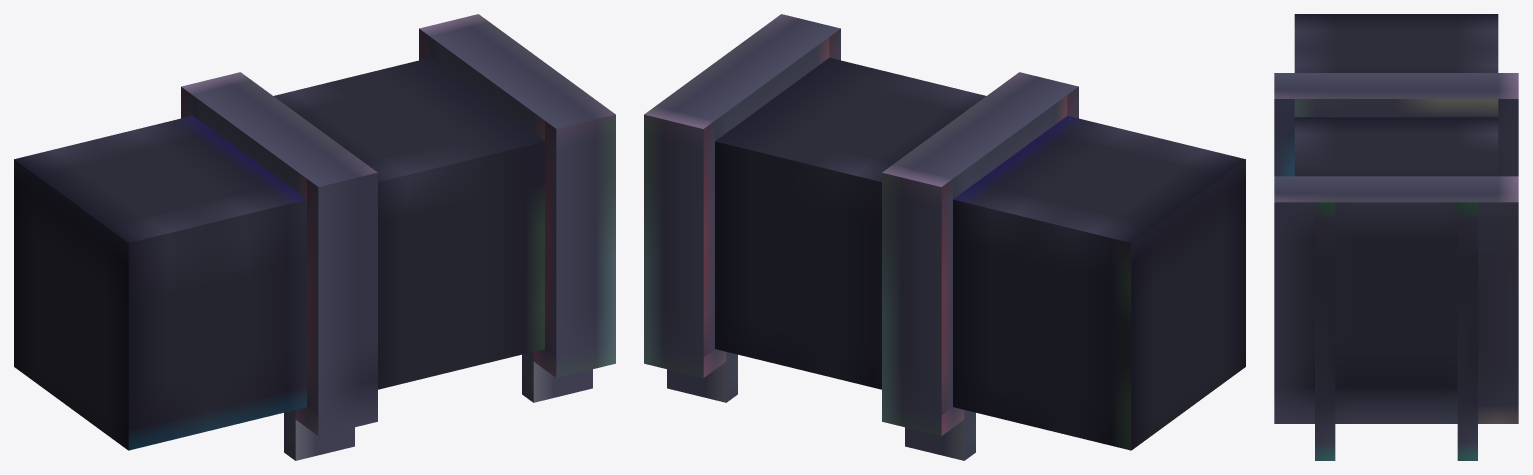
File: Vent_E_00.fbx
The picture shows the model from 3 angles, left to right: view 1: azimuth 30°, elevation 25°; view 2: azimuth 150°, elevation 25°; view 3: azimuth 270°, elevation 25°; orthographic projection. The views are drawn at different scales.
Visible parts, largest first — view 1: Vent_E_00; view 2: Vent_E_00; view 3: Vent_E_00.
Boxes of the visible parts, x1=… form: Vent_E_00: x1=14, y1=14, x2=615, y2=460; Vent_E_00: x1=644, y1=14, x2=1245, y2=460; Vent_E_00: x1=1274, y1=14, x2=1518, y2=460.
Size of the model in its own units: 120 by 70 by 60.
